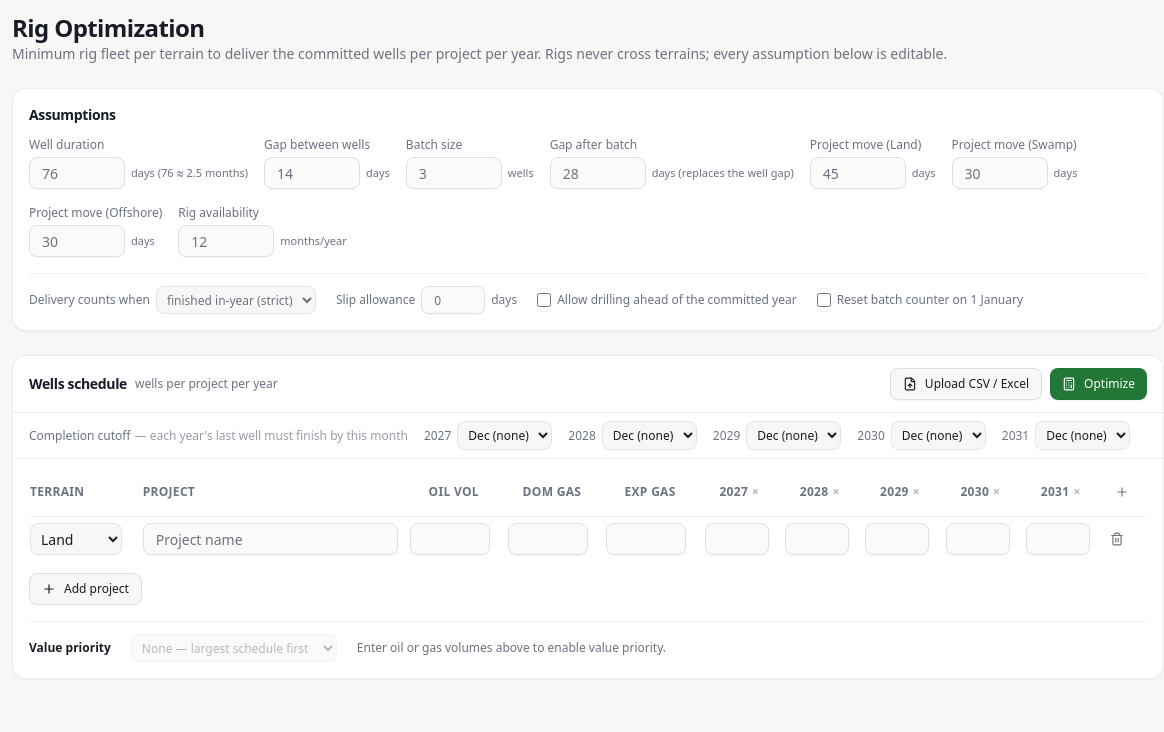
Test: RigOptimizer › greys value priority behind a hint until a volume is captured
Expected: the dropdown with test id "priority-global" is disabled, [131, 634, 337, 662]
Expected: the text "Enter oil or gas volumes above to enable value priority." is shown, [357, 640, 666, 656]
Type "30" into the field with test id "domestic_gas_volume-0".
click(548, 539); type("30")  # box [508, 523, 588, 555]
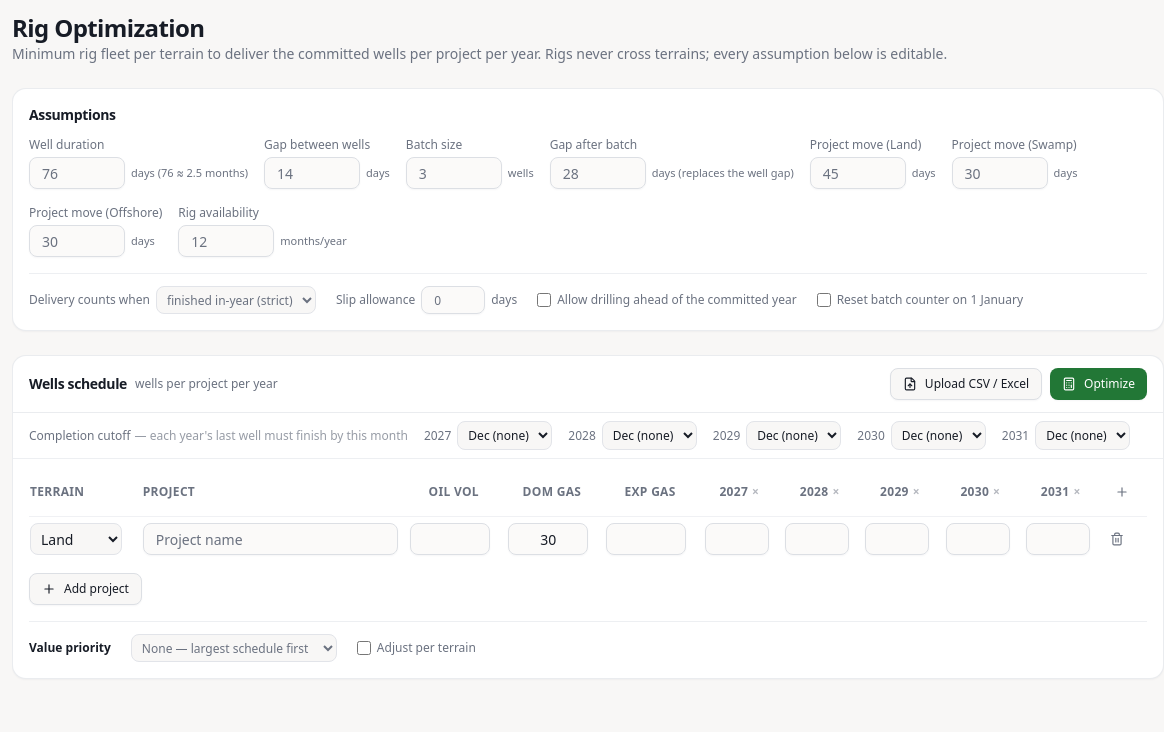
Result: the dropdown with test id "priority-global" is enabled at [131, 634, 337, 662]
Result: the text with test id "priority-hint" is gone
